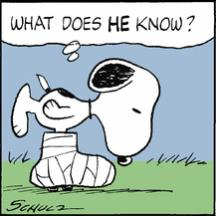snoopy: (9, 54, 162, 192)
